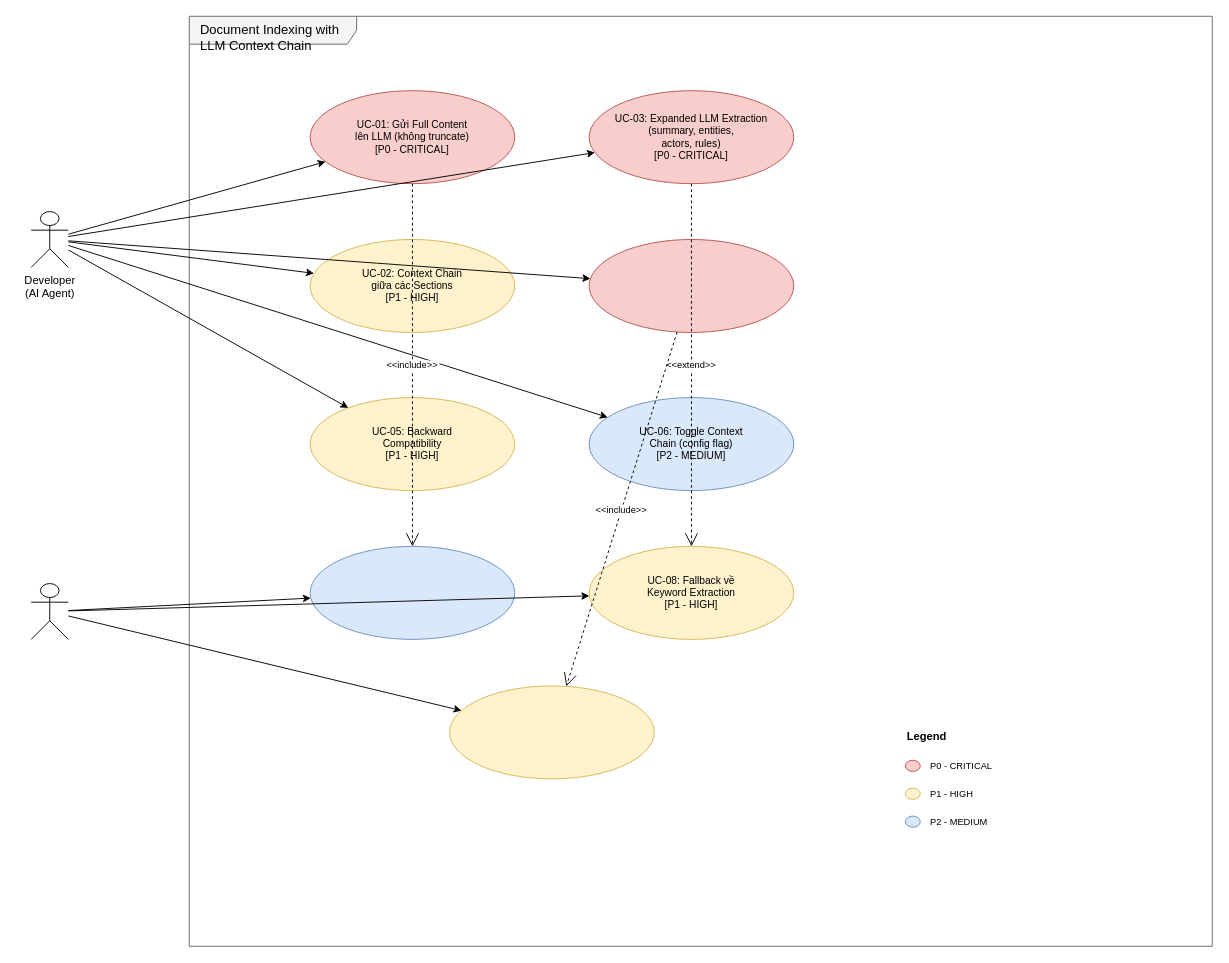
This 1229x963 diagram has some shape labels left out. The box of each missing label's shape, as (x1, y1, x2, y2) in pixels:
System (Background): (30, 583, 68, 639)
UC-04: Lưu vào structured_map (JSON) [P0 - CRITICAL]: (588, 239, 794, 332)
UC-07: Auto Chunking cho content quá dài [P2 - MEDIUM]: (309, 545, 515, 639)
UC-09: Merge File Metadata với LLM Data [P1 - HIGH]: (449, 685, 654, 779)
